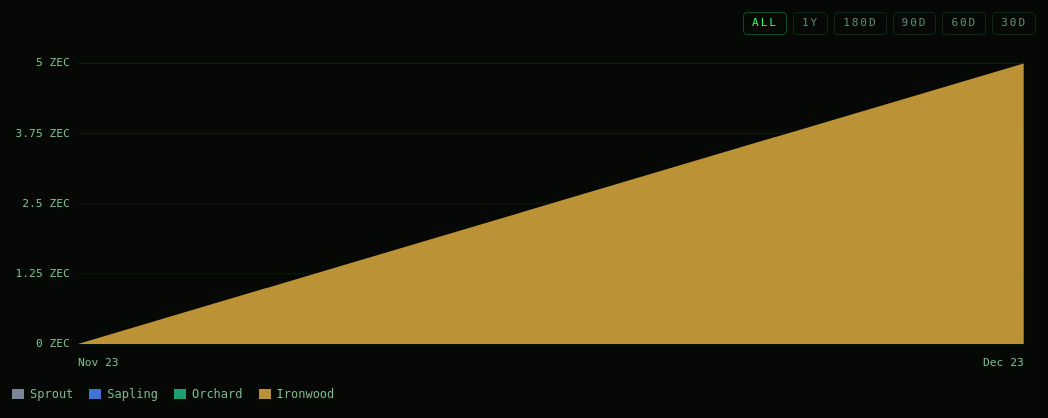
Test: pool-balances hides a pool before it existed › shows Ironwood from the point it first held value
Focus the element named "use the arrow keys": (524, 210) [12,46,1036,374]
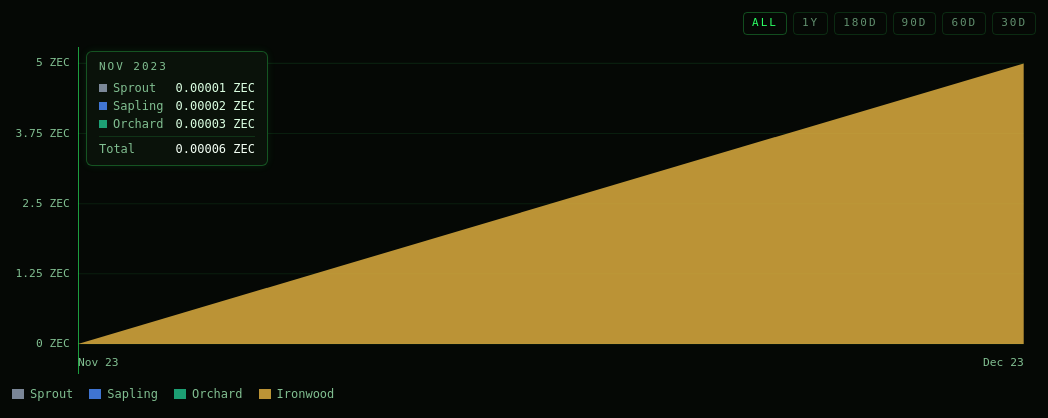
Press End in the element named "use the arrow keys"
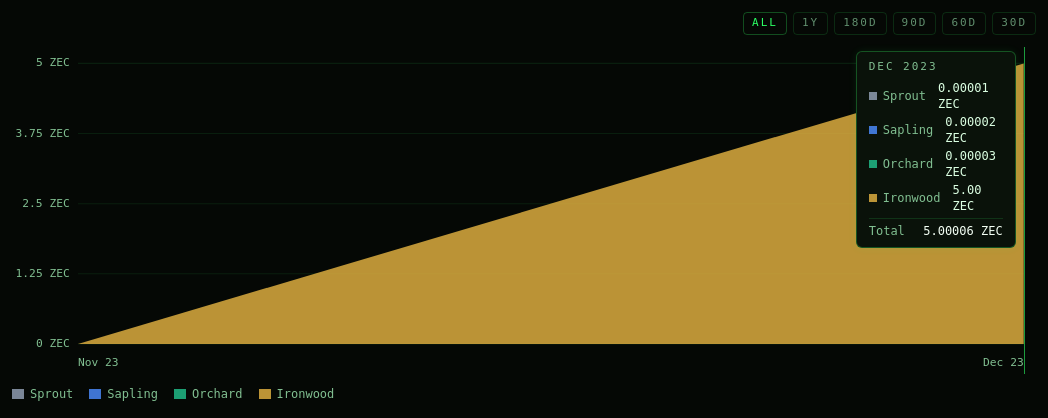
expect the message shows "Ironwood": met, box [883,191,940,205]
